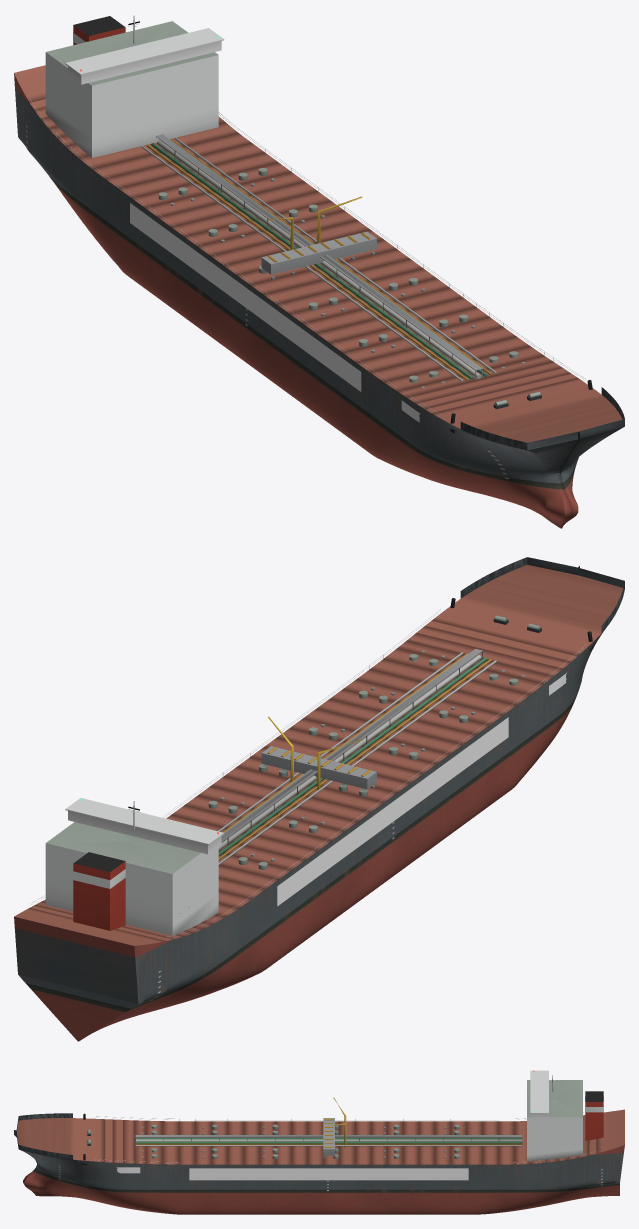
The model's file is tanker.glb.
3 renders of one model, top to bottom at view 1: azimuth 30°, elevation 25°; view 2: azimuth 150°, elevation 25°; view 3: azimuth 270°, elevation 25°, orthographic. The views are drawn at different scales.
Parts seen in each view (by area): view 1: trim, rumpf, rund, name-1; view 2: trim, rumpf, rund, name-1; view 3: trim, rumpf, rund, name1.
Boxes of the visible parts, bbox=[...] form: trim: bbox=[14, 16, 624, 450]; rumpf: bbox=[14, 73, 623, 528]; rund: bbox=[30, 15, 592, 423]; name-1: bbox=[130, 203, 361, 391]; trim: bbox=[14, 557, 624, 945]; rumpf: bbox=[14, 630, 604, 1041]; rund: bbox=[30, 598, 592, 938]; name-1: bbox=[277, 717, 508, 906]; trim: bbox=[14, 1070, 624, 1165]; rumpf: bbox=[14, 1134, 624, 1214]; rund: bbox=[83, 1075, 596, 1164]; name1: bbox=[189, 1168, 468, 1180].
Bounding box in the file's own units: 44.12 × 57.62 × 262.
Materials: 8 (1 with a texture image).
